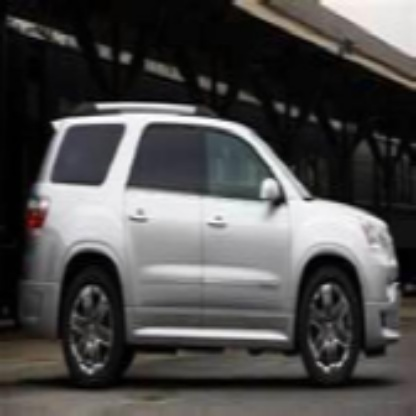Vehicle: (20, 94, 400, 408)
